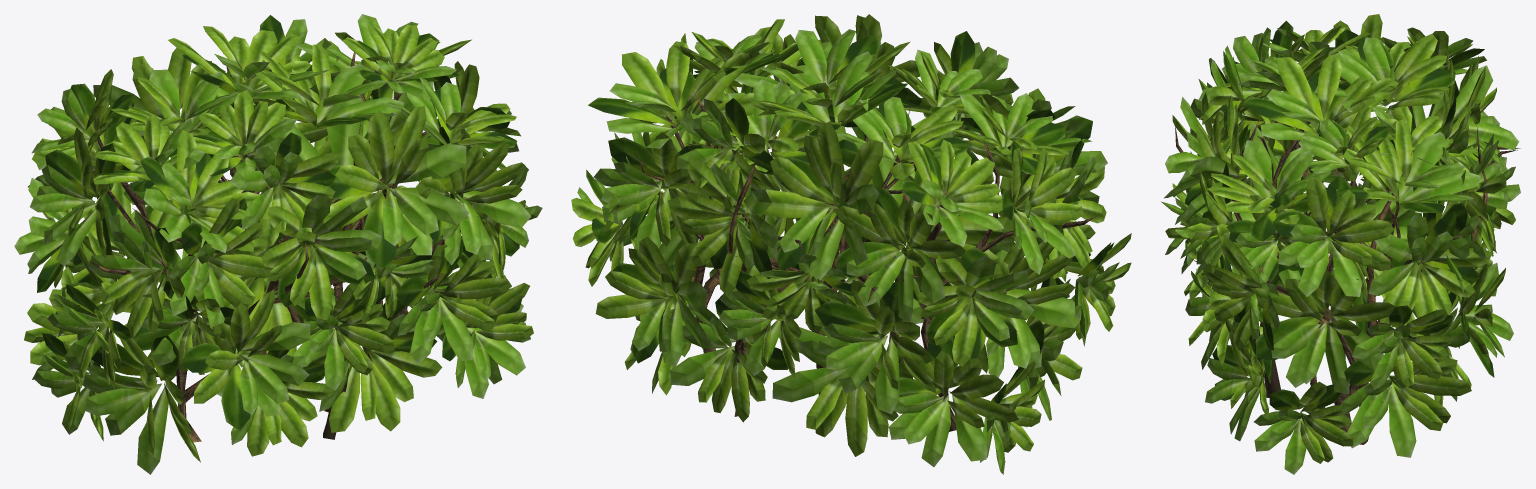
The model's file is hedge.obj.
The picture shows the model from 3 angles, left to right: view 1: azimuth 30°, elevation 25°; view 2: azimuth 150°, elevation 25°; view 3: azimuth 270°, elevation 25°; orthographic projection. The views are drawn at different scales.
Visible parts, largest first — view 1: leaves_Plane.020, branches_stems_1.003; view 2: leaves_Plane.020, branches_stems_1.003; view 3: leaves_Plane.020, branches_stems_1.003.
Part boxes in pixels (box(x1,y1,x2,y2)): leaves_Plane.020: box(14, 14, 542, 474); branches_stems_1.003: box(89, 52, 473, 442); leaves_Plane.020: box(571, 14, 1131, 474); branches_stems_1.003: box(614, 81, 1097, 431); leaves_Plane.020: box(1161, 14, 1520, 474); branches_stems_1.003: box(1175, 90, 1520, 444).
Size of the model in its own units: 151 by 106 by 105.
